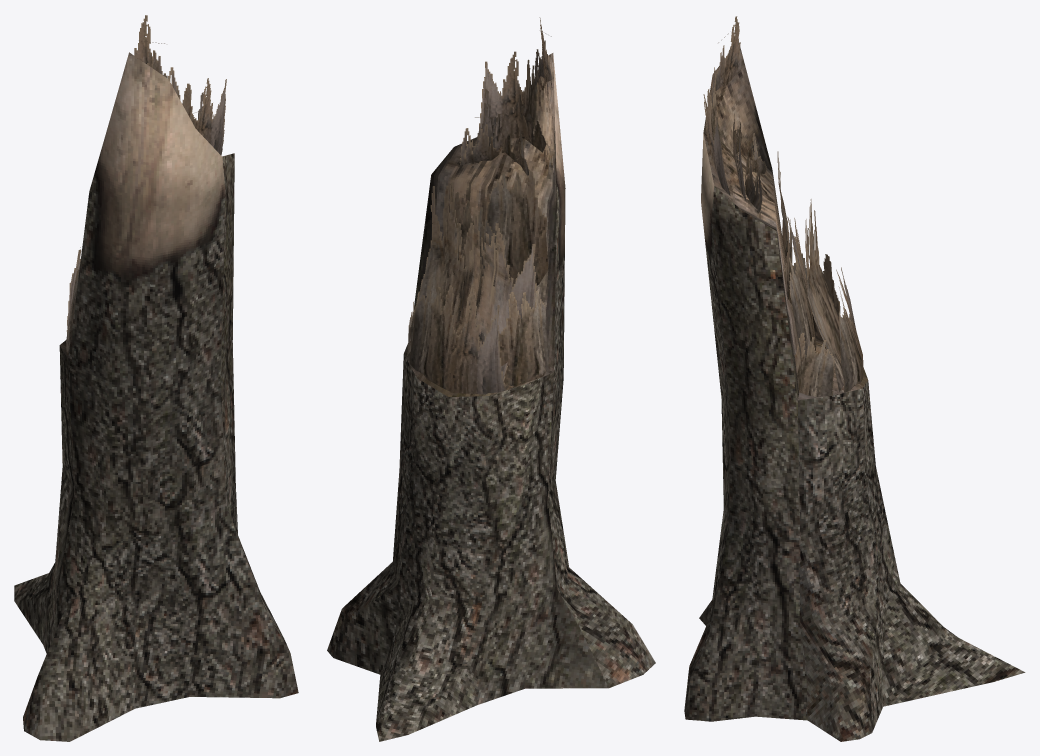
The model's file is pine_tree_trunk_01.glb.
3 renders of one model, left to right at view 1: azimuth 30°, elevation 25°; view 2: azimuth 150°, elevation 25°; view 3: azimuth 270°, elevation 25°, orthographic. The views are drawn at different scales.
Visible parts, largest first — view 1: pine_tree_trunk_01; view 2: pine_tree_trunk_01; view 3: pine_tree_trunk_01.
Boxes of the visible parts, x1,y1,x2,y2 form: pine_tree_trunk_01: (14, 15, 298, 741); pine_tree_trunk_01: (327, 17, 655, 741); pine_tree_trunk_01: (684, 16, 1025, 741).
Size of the model in its own units: 0.7058 by 1.61 by 0.7619.
Materials: 1 (1 with a texture image).
